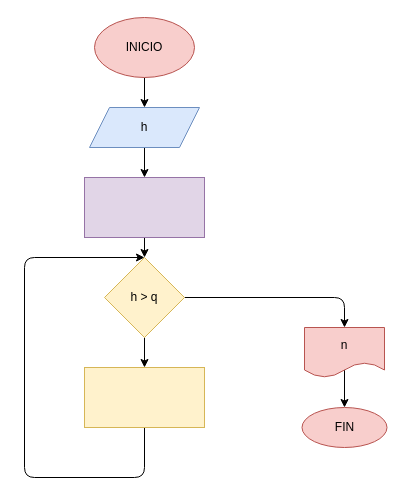
Image size: 405x503. Some labels were removed from this diagram. Here are the shapes that lost their labels. From the top down, the centre of each, then its label:
At point (144, 207): "n = 0 q = h / 5".
At point (144, 397): "h= h - 0.1h n= n + 1".
